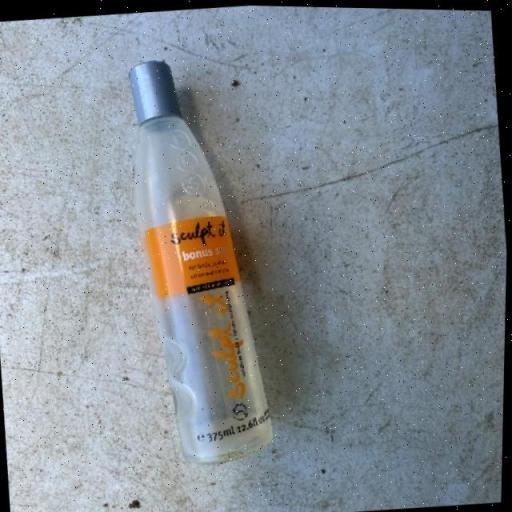plastic: (116, 49, 284, 469)
